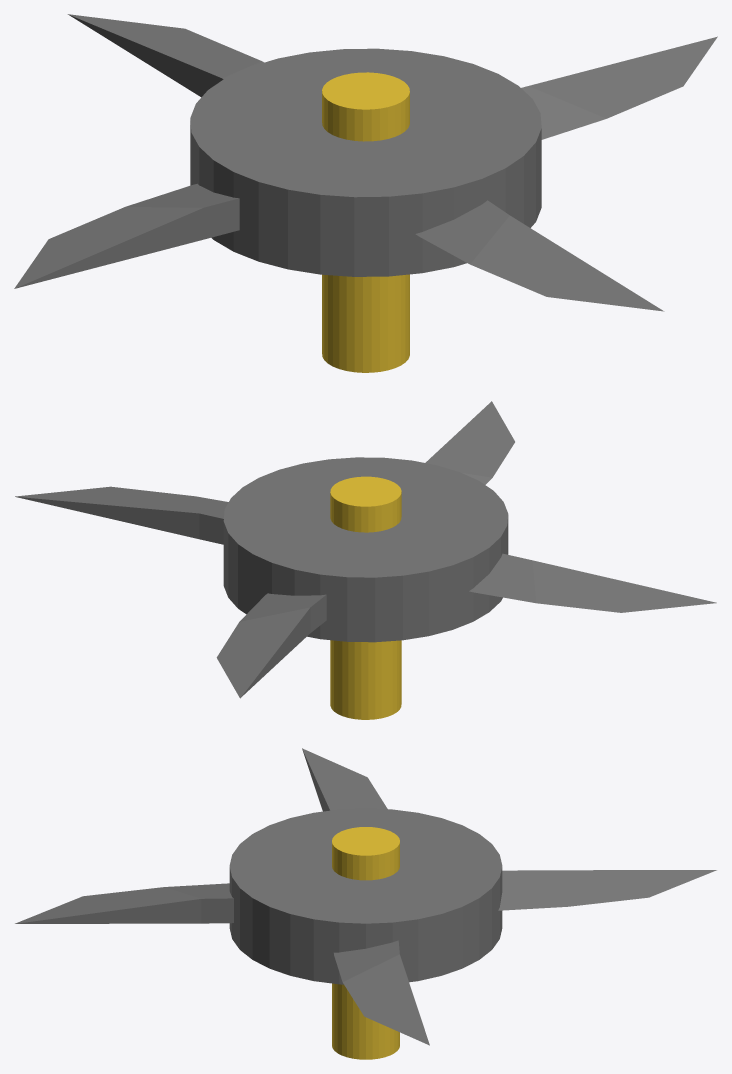
The model's file is SpinBlades.fbx.
3 renders of one model, top to bottom at view 1: azimuth 30°, elevation 25°; view 2: azimuth 150°, elevation 25°; view 3: azimuth 270°, elevation 25°, orthographic. The views are drawn at different scales.
Parts seen in each view (by area): view 1: Cylinder.001, Cylinder, Cylinder.002; view 2: Cylinder.001, Cylinder, Cylinder.002; view 3: Cylinder.001, Cylinder.002, Cylinder.
Part boxes in pixels (left/top/right/bottom): Cylinder.001: left=14, top=14, right=717, bottom=311; Cylinder: left=322, top=274, right=409, bottom=372; Cylinder.002: left=322, top=72, right=409, bottom=141; Cylinder.001: left=15, top=401, right=716, bottom=698; Cylinder: left=330, top=640, right=401, bottom=719; Cylinder.002: left=330, top=476, right=401, bottom=532; Cylinder.001: left=15, top=748, right=716, bottom=1045; Cylinder.002: left=332, top=827, right=399, bottom=880; Cylinder: left=332, top=983, right=399, bottom=1059.
Bounding box in the file's own units: 516 × 165 × 516.
